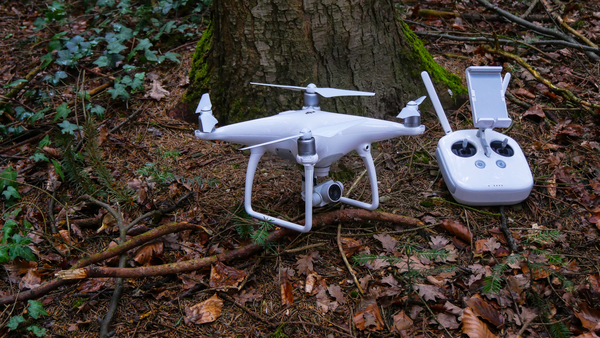drone: (192, 79, 429, 233)
